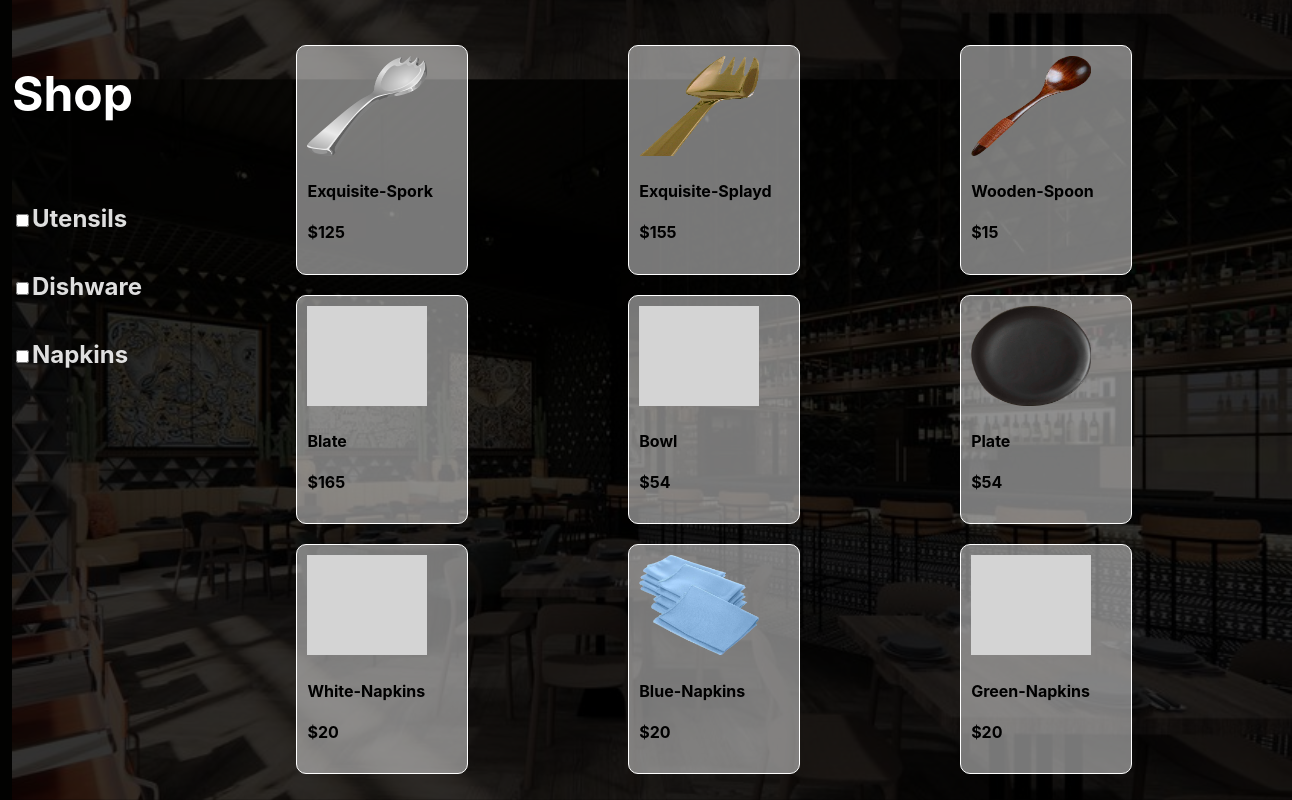
Scenario: Shop Component › Dishware Filter only renders Dishware
The width and height of the screenshot is (1292, 800).
Click the checkbox with placeholder "Dishware" next to "Dishware": coordinates (22, 288) [16,282,29,294]
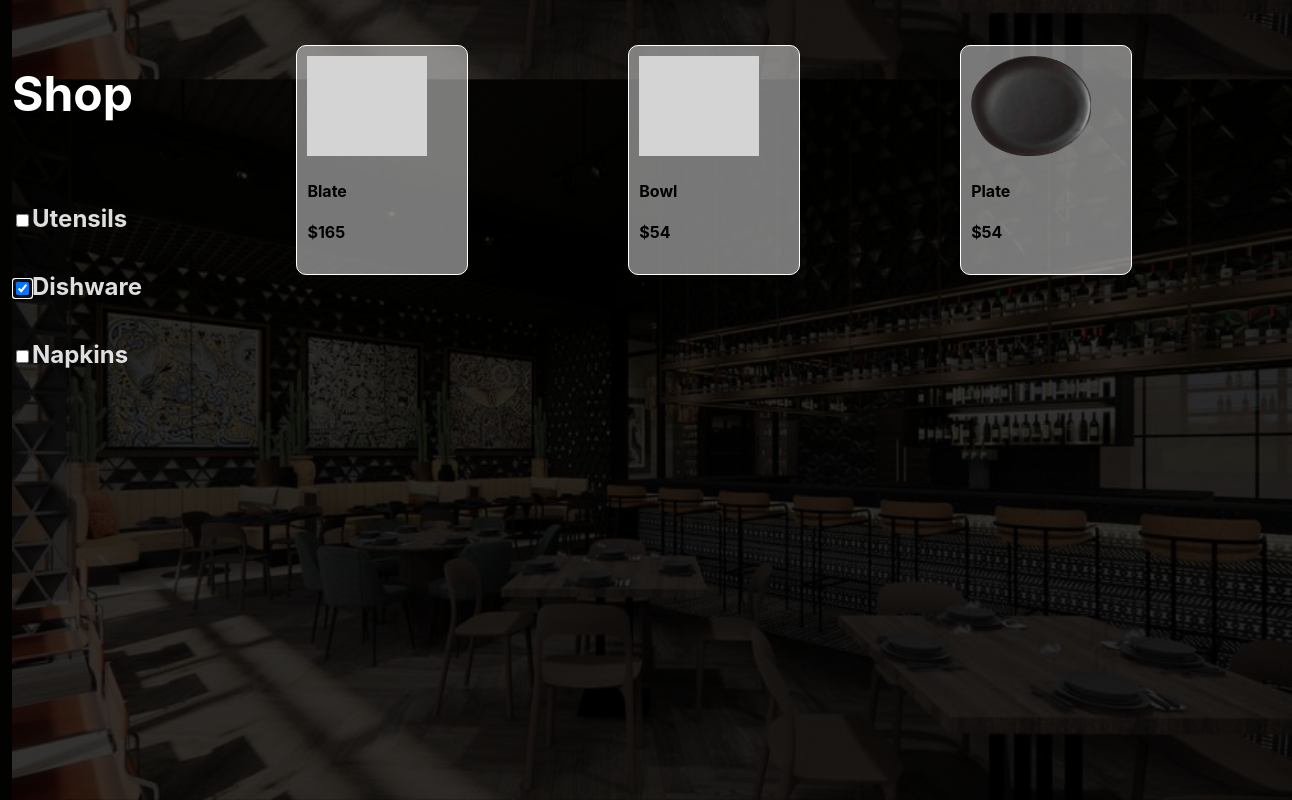
expect the link "Spork" is gone: met
